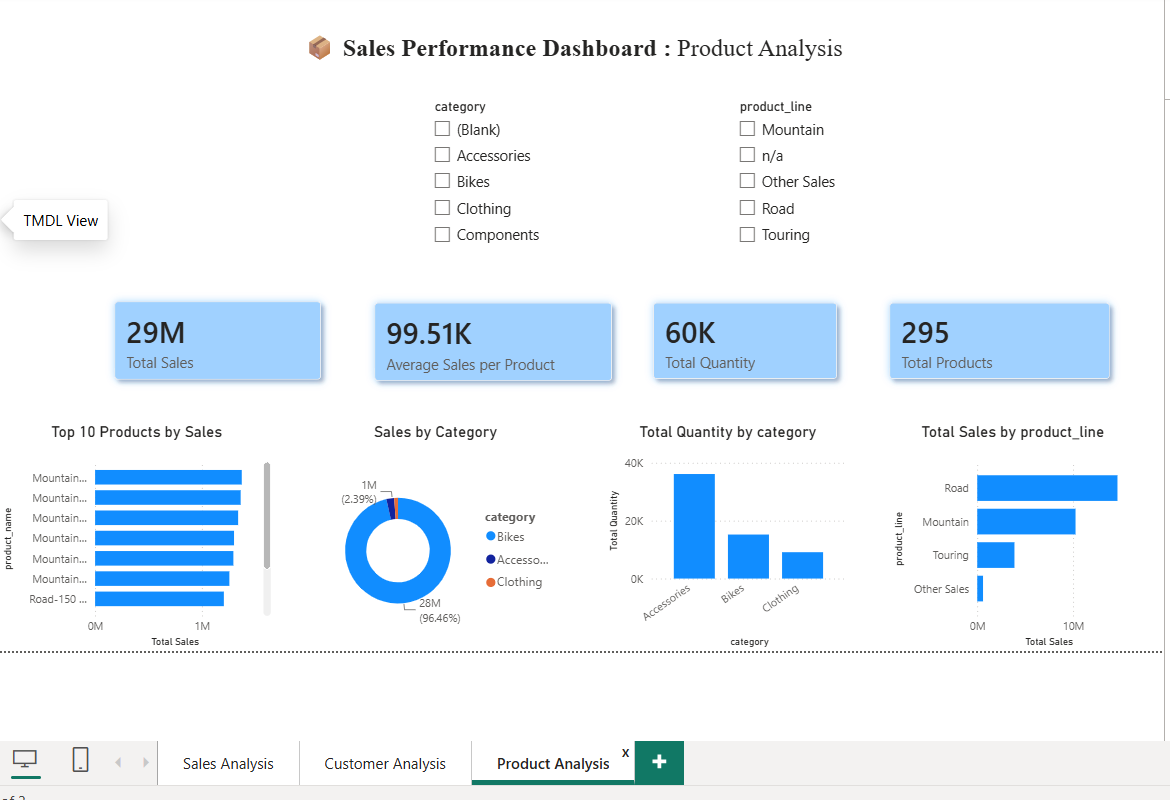

The dashboard page shown, as its layout file describes it:
{"tool":"powerbi","page":{"name":"Product Analysis","canvas":[1280,720],"ordinal":2},"visuals":[{"type":"cardVisual","fields":{"Data":["Measure Table.Total Products"]},"box":[949.6,308.7,300.5,142.7],"z":0},{"type":"cardVisual","fields":{"Data":["Measure Table.Total Sales"]},"box":[98.8,307.4,285.4,144.1],"z":1000},{"type":"cardVisual","fields":{"Data":["Measure Table.Total Quantity"]},"box":[690.2,308.7,260.7,142.7],"z":2000},{"type":"cardVisual","fields":{"Data":["Measure Table.Average Sales per Product"]},"box":[384.2,308.7,319.7,144.1],"z":3000},{"type":"textbox","box":[64.5,32.9,1133.5,75.5],"z":4000},{"type":"clusteredBarChart","title":"Top 10 Products by Sales","fields":{"Category":["gold dim_products.product_name"],"Y":["Measure Table.Total Sales"]},"box":[0,469.3,304.6,251.1],"z":5000},{"type":"donutChart","title":"Sales by Category","fields":{"Category":["gold dim_products.category"],"Y":["Measure Table.Total Sales"]},"box":[338.9,469.3,282.7,251.1],"z":6000},{"type":"clusteredColumnChart","fields":{"Category":["gold dim_products.category"],"Y":["Measure Table.Total Quantity"]},"box":[665.5,469.3,271.7,251.1],"z":7000},{"type":"clusteredBarChart","fields":{"Category":["gold dim_products.product_line"],"Y":["Measure Table.Total Sales"]},"box":[978.4,469.3,271.7,251.1],"z":8000},{"type":"slicer","fields":{"Values":["gold dim_products.category"]},"box":[466.6,108.4,164.7,174.3],"z":9000},{"type":"slicer","fields":{"Values":["gold dim_products.product_line"]},"box":[801.4,108.4,193,174],"z":10000}]}

Visuals, with their boxes on the page's 1280x720 design canvas (x1, y1, x2, y2). These are canvas units, not pixel positions in the 1170x800 screenshot, which may show the page scaled, cropped or inside an application window:
cardVisual - Measure Table.Total Products: Rect(950, 309, 1250, 451)
cardVisual - Measure Table.Total Sales: Rect(99, 307, 384, 452)
cardVisual - Measure Table.Total Quantity: Rect(690, 309, 951, 451)
cardVisual - Measure Table.Average Sales per Product: Rect(384, 309, 704, 453)
textbox: Rect(64, 33, 1198, 108)
"Top 10 Products by Sales" clusteredBarChart: Rect(0, 469, 305, 720)
"Sales by Category" donutChart: Rect(339, 469, 622, 720)
clusteredColumnChart - gold dim_products.category x Measure Table.Total Quantity: Rect(666, 469, 937, 720)
clusteredBarChart - gold dim_products.product_line x Measure Table.Total Sales: Rect(978, 469, 1250, 720)
slicer - gold dim_products.category: Rect(467, 108, 631, 283)
slicer - gold dim_products.product_line: Rect(801, 108, 994, 282)
